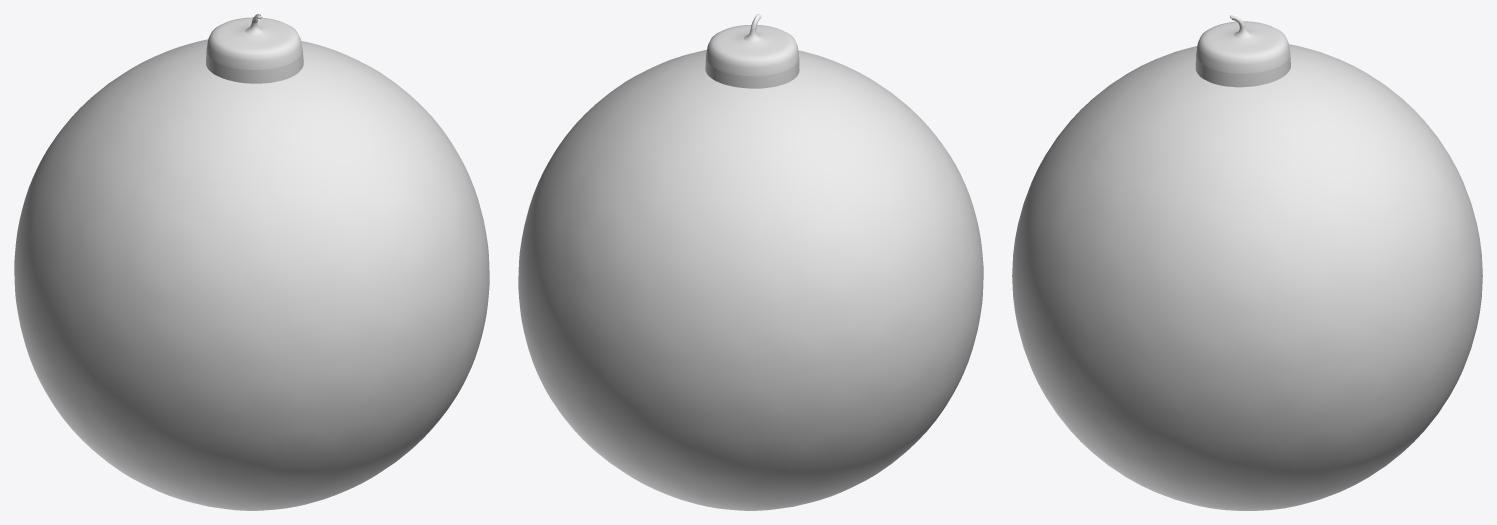
The model's file is bomb.fbx.
3 renders of one model, left to right at view 1: azimuth 30°, elevation 25°; view 2: azimuth 150°, elevation 25°; view 3: azimuth 270°, elevation 25°, orthographic. The views are drawn at different scales.
Parts seen in each view (by area): view 1: corps; view 2: corps; view 3: corps.
Boxes of the visible parts, x1,y1,x2,y2 form: corps: [14, 14, 489, 510]; corps: [518, 14, 983, 510]; corps: [1012, 14, 1482, 510].
Size of the model in its own units: 79.86 by 89.16 by 79.89.
